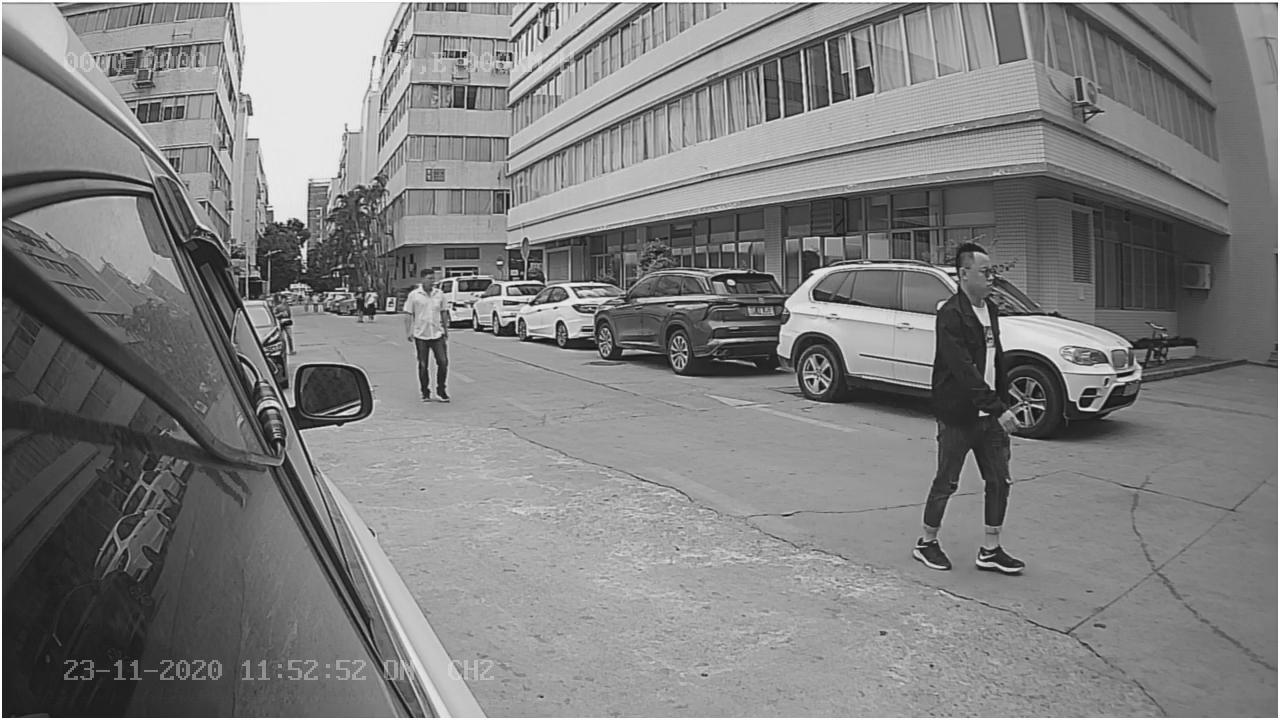person: (921, 243, 1017, 571)
